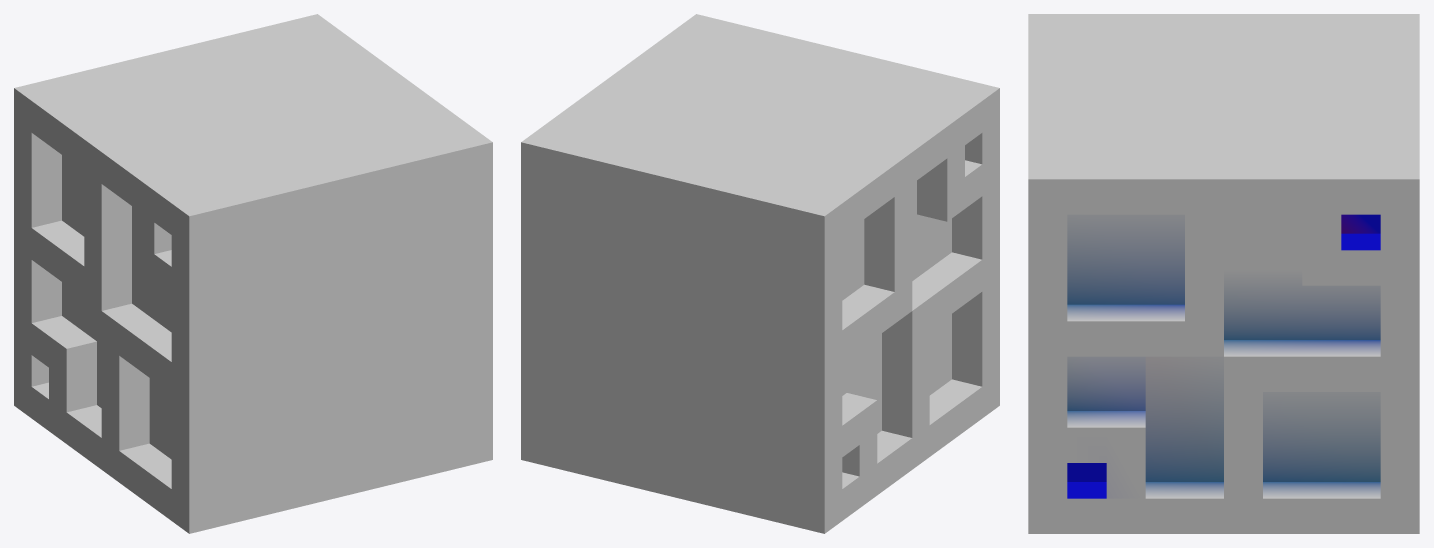
The model's file is Tile_Puzzle_4.fbx.
3 renders of one model, left to right at view 1: azimuth 30°, elevation 25°; view 2: azimuth 150°, elevation 25°; view 3: azimuth 270°, elevation 25°, orthographic. The views are drawn at different scales.
Parts seen in each view (by area): view 1: Tile_Puzzle_4; view 2: Tile_Puzzle_4; view 3: Tile_Puzzle_4.
Boxes of the visible parts, x1,y1,x2,y2 form: Tile_Puzzle_4: [14, 14, 492, 533]; Tile_Puzzle_4: [521, 14, 999, 533]; Tile_Puzzle_4: [1028, 14, 1419, 533].
Size of the model in its own units: 200 by 200 by 200.
